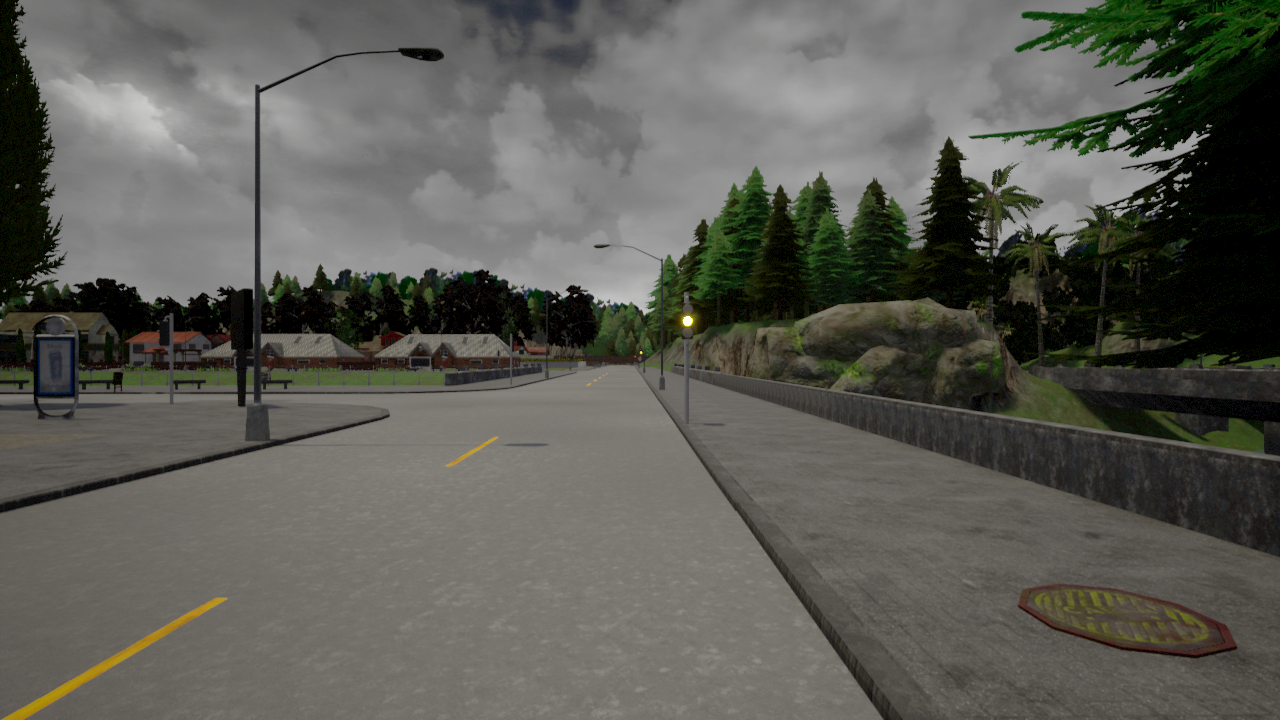yellow: (680, 301, 696, 343)
